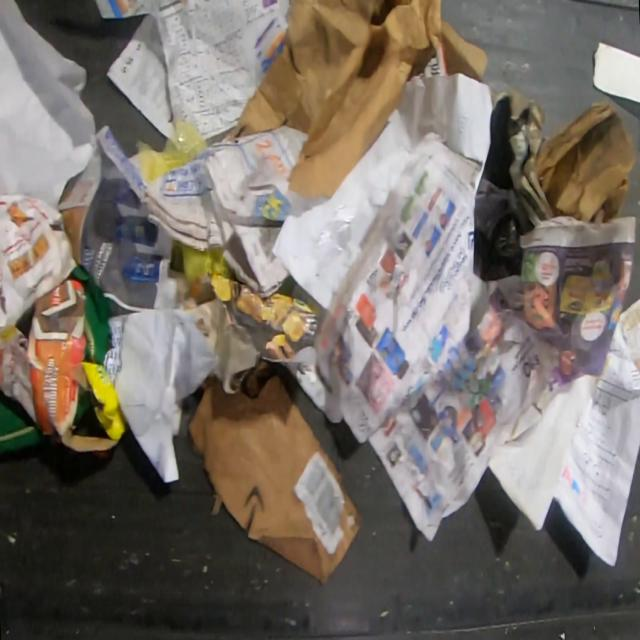cardboard: (236, 1, 488, 198), (189, 376, 364, 587), (534, 101, 637, 222)
soft_plastic: (130, 120, 208, 182), (181, 245, 233, 280)
